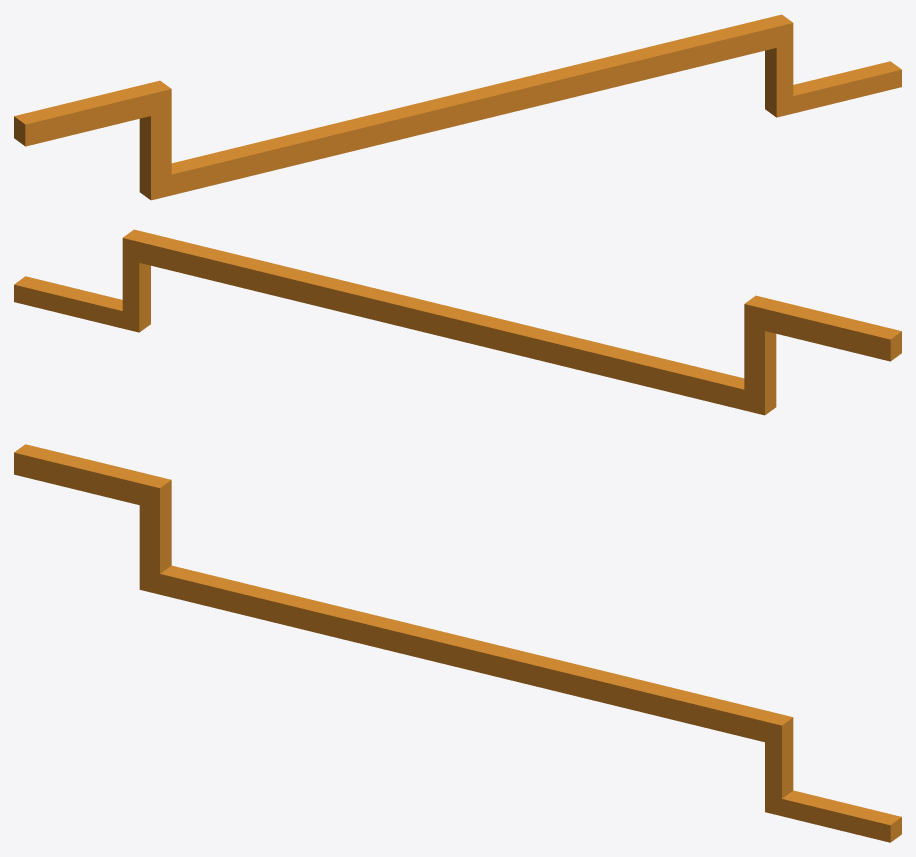
3 views of the same model, one above another, from view 1: azimuth 30°, elevation 25°; view 2: azimuth 150°, elevation 25°; view 3: azimuth 330°, elevation 25° (orthographic).
Parts seen in each view (by area): view 1: Cube_005; view 2: Cube_005; view 3: Cube_005.
Part boxes in pixels (x1=…): Cube_005: x1=14, y1=14, x2=901, y2=200; Cube_005: x1=14, y1=229, x2=901, y2=415; Cube_005: x1=14, y1=444, x2=901, y2=842.
Size of the model in its own units: 88.02 by 16.92 by 2.
